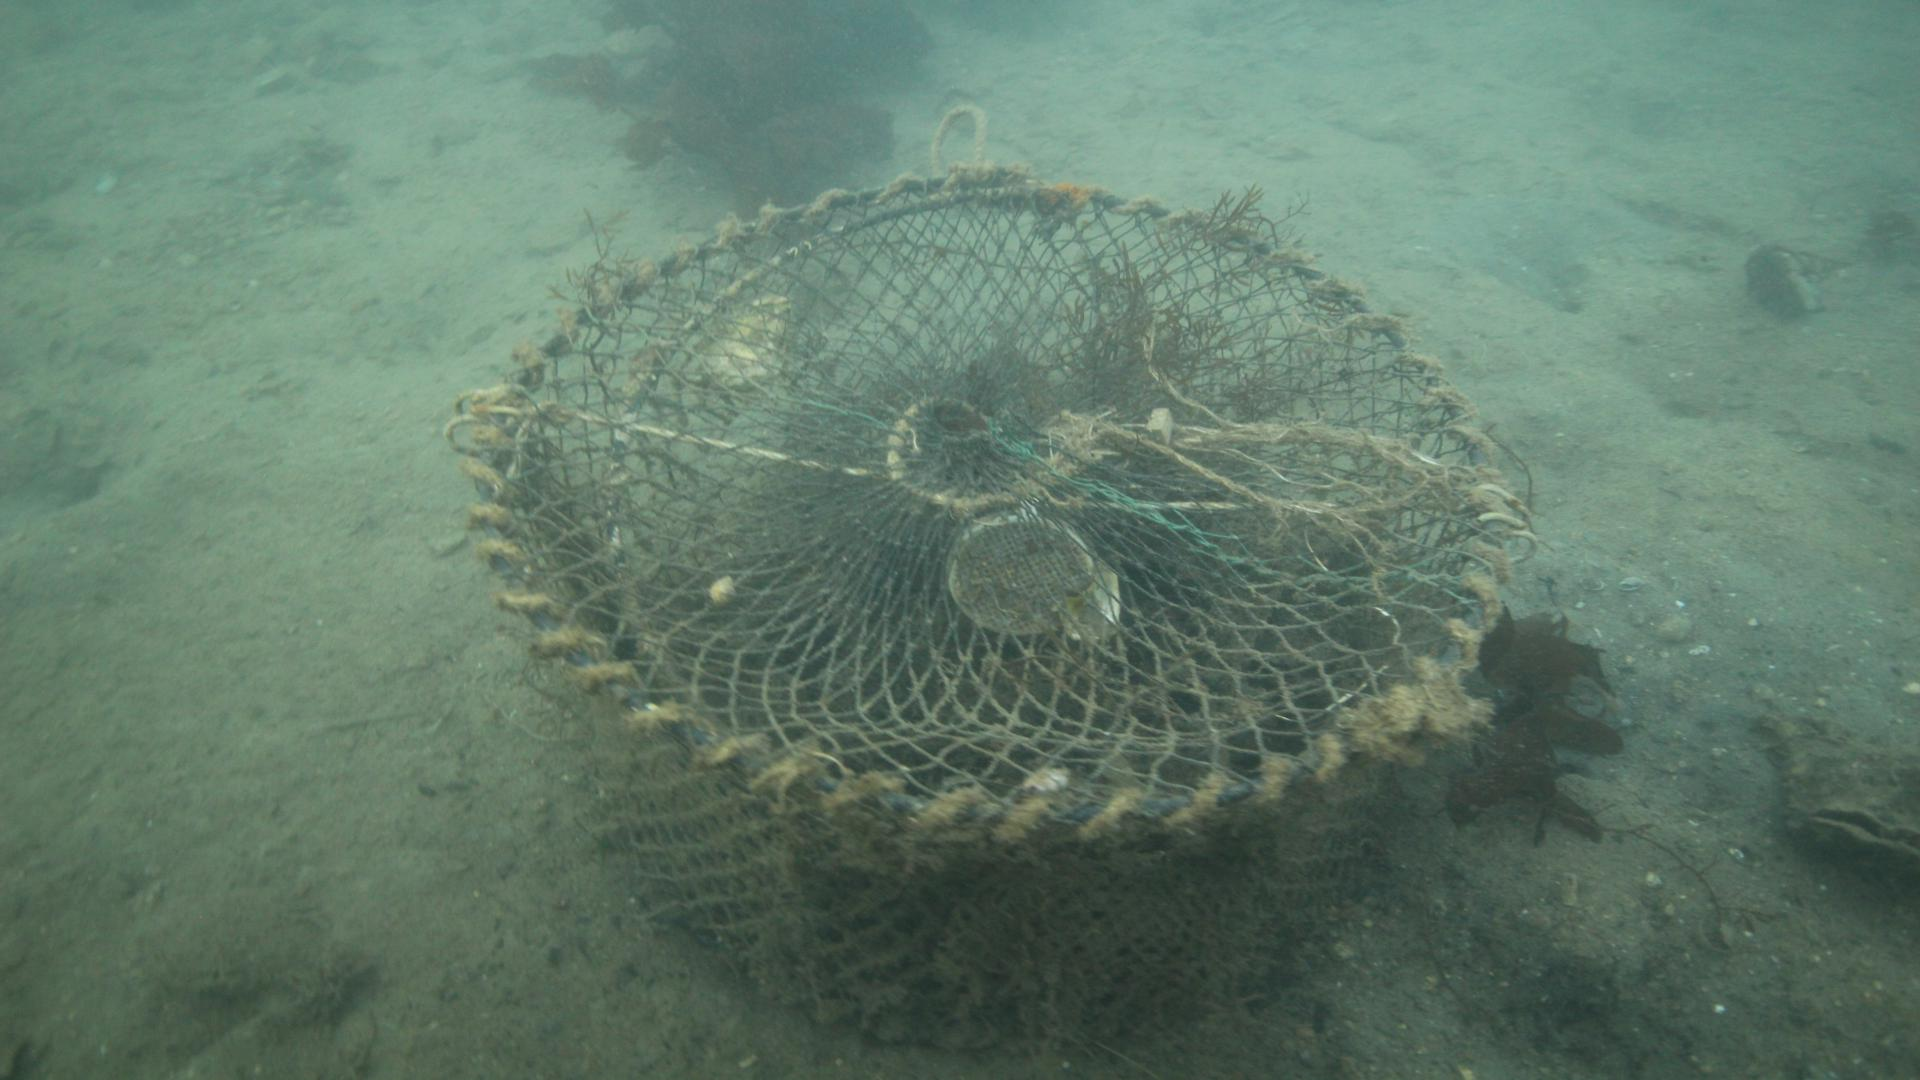circular fish trap: (458, 158, 1516, 1060)
rope: (927, 99, 992, 171)
